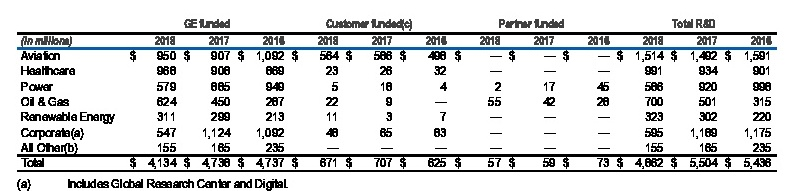table: (0, 0, 799, 191)
